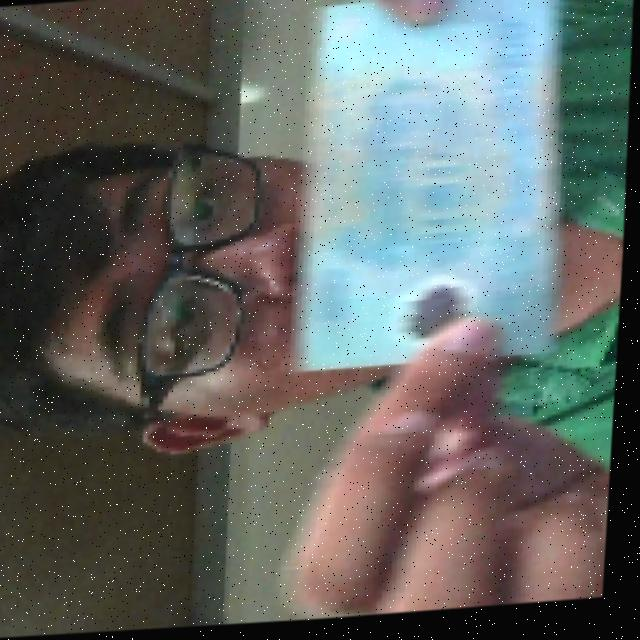20 000 VND: (282, 0, 581, 387)
